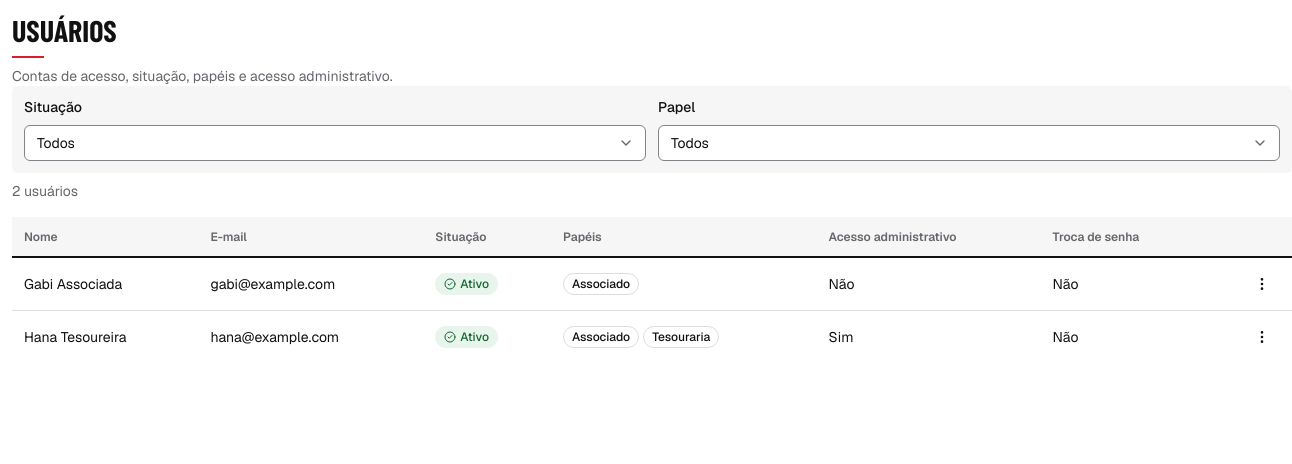
Test: ação compatível com o estado › sem vínculo: só Promover; com vínculo: Editar papéis e Retirar acesso
Check: the text "gabi@example.com" is shown, box [198,257,423,311]
Click the button named "Ações de Gabi Associada" at point(1262, 284), box [1244,266,1280,302]
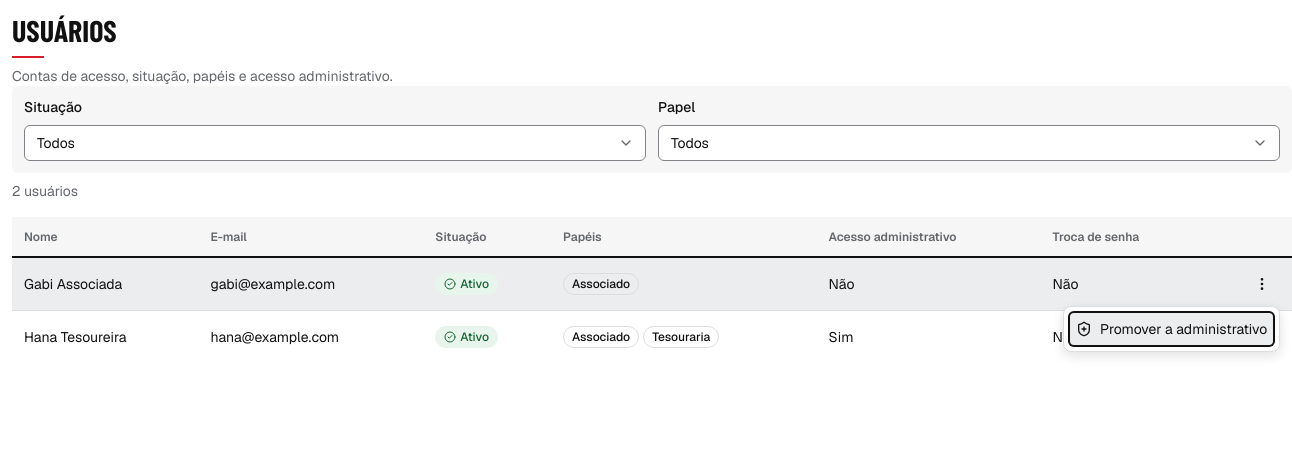
Check: the menu is shown
Press Escape in the menu, box [1063,306,1280,352]
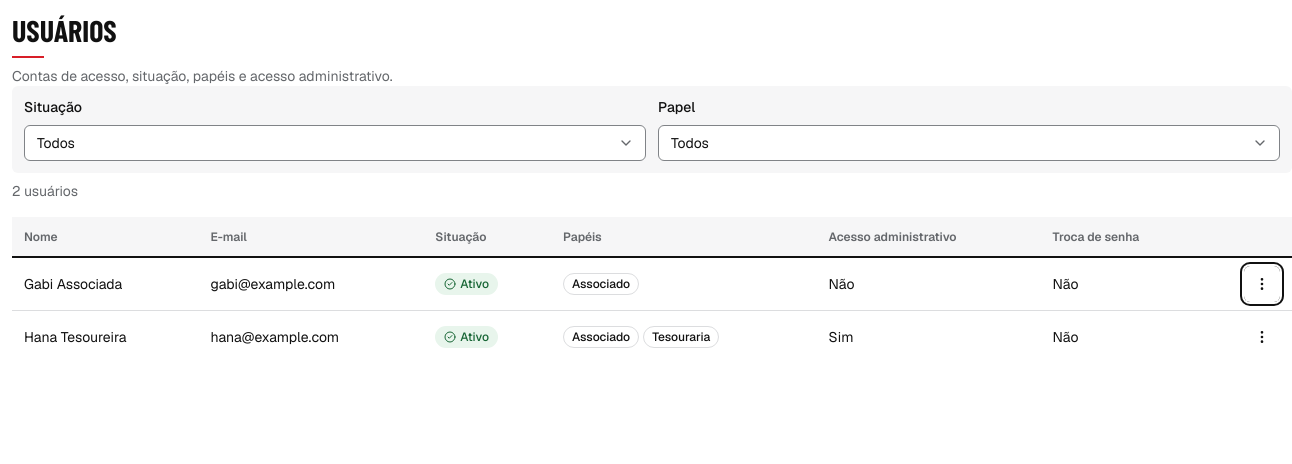
Check: the menu is gone
Click the button named "Ações de Hana Tesoureira" at point(1262, 337), box [1244,319,1280,355]
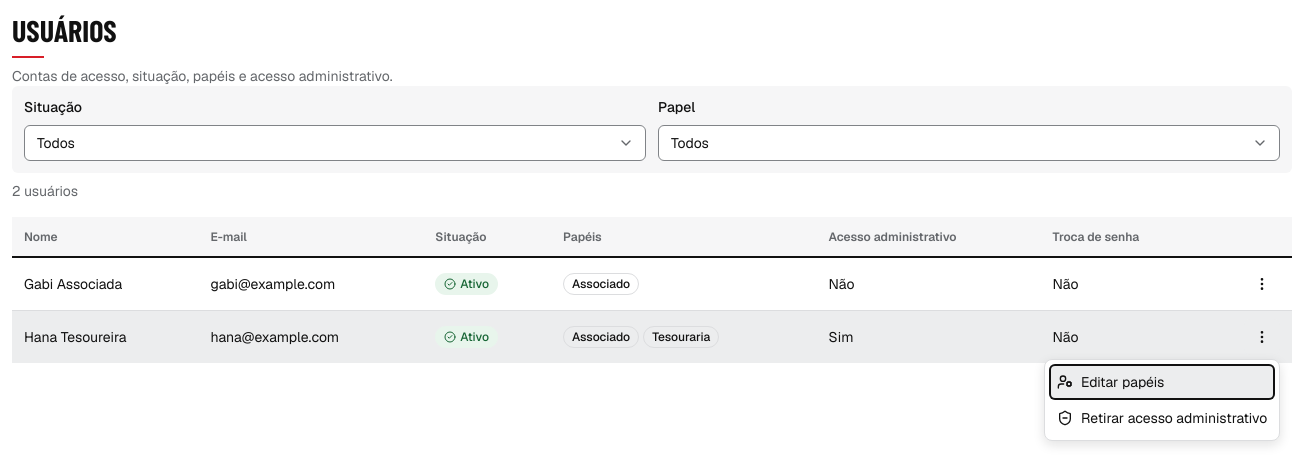
Check: the menu is shown, box [1044,359,1280,441]
